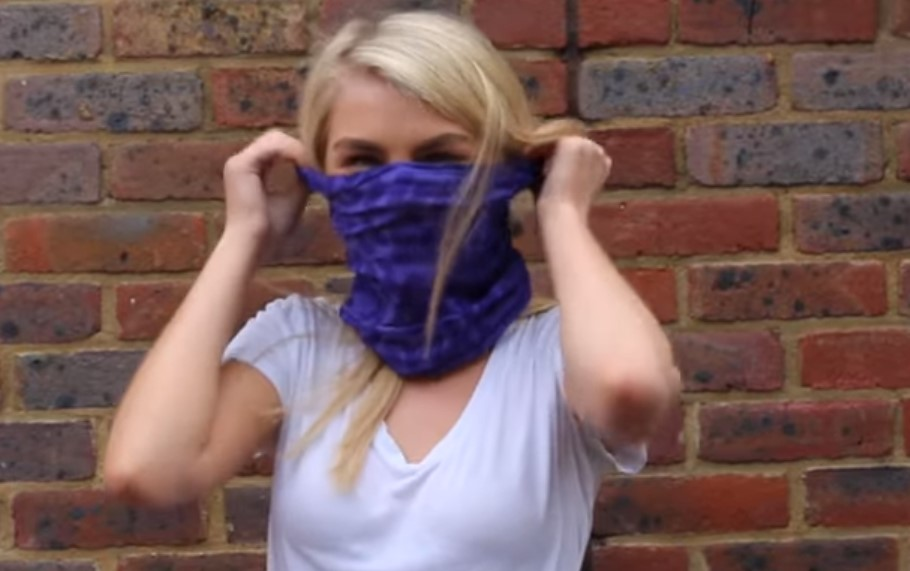face_with_mask: (305, 42, 539, 328)
